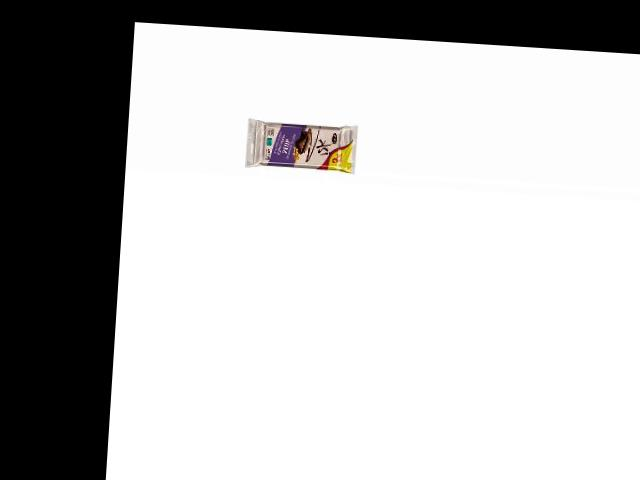chocolate: (244, 114, 361, 177)
